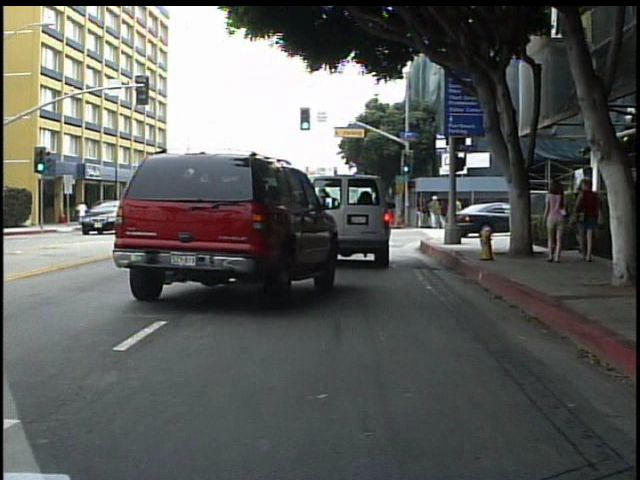person: (575, 173, 607, 265), (541, 174, 572, 265), (428, 191, 443, 228), (75, 198, 92, 228)
